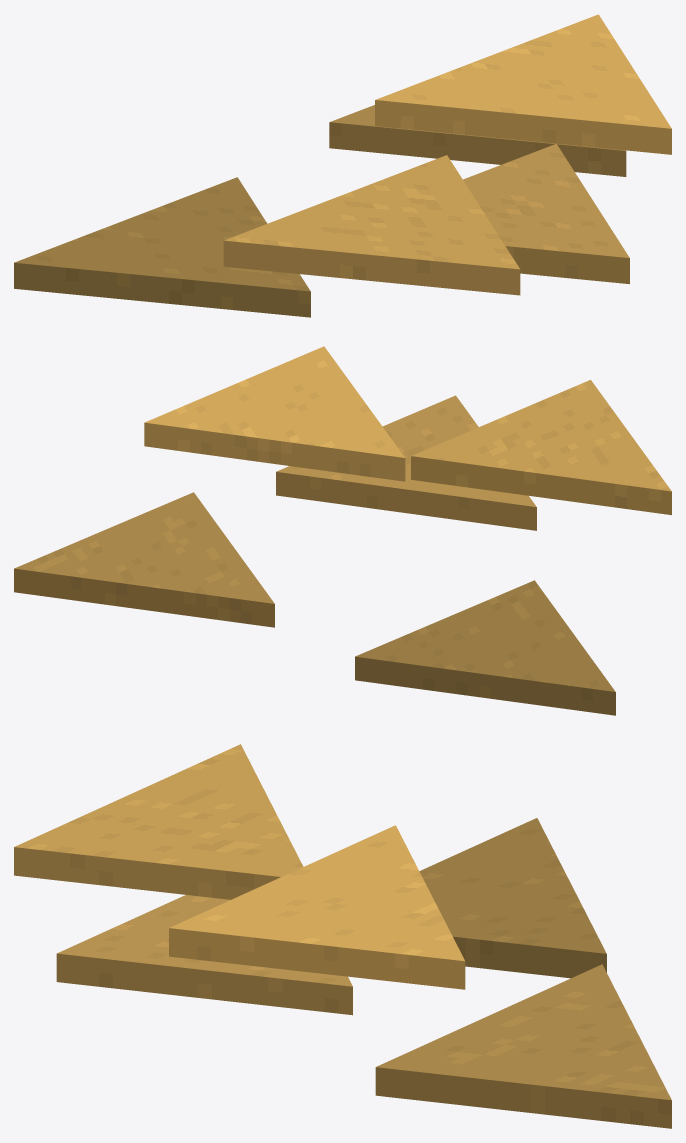
Rendered from nachos.glb.
The picture shows the model from 3 angles, top to bottom: view 1: azimuth 30°, elevation 25°; view 2: azimuth 150°, elevation 25°; view 3: azimuth 270°, elevation 25°; orthographic projection. The views are drawn at different scales.
Visible parts, largest first — view 1: block_triangular tortilla chip (×5); view 2: block_triangular tortilla chip (×5); view 3: block_triangular tortilla chip (×5).
Boxes of the visible parts, x1,y1,x2,y2 form: block_triangular tortilla chip (×5): (14, 14, 671, 317); block_triangular tortilla chip (×5): (14, 346, 671, 715); block_triangular tortilla chip (×5): (14, 744, 671, 1128).
Size of the model in its own units: 0.0833 by 0.0217 by 0.0723.
1 material, 1 textured.
